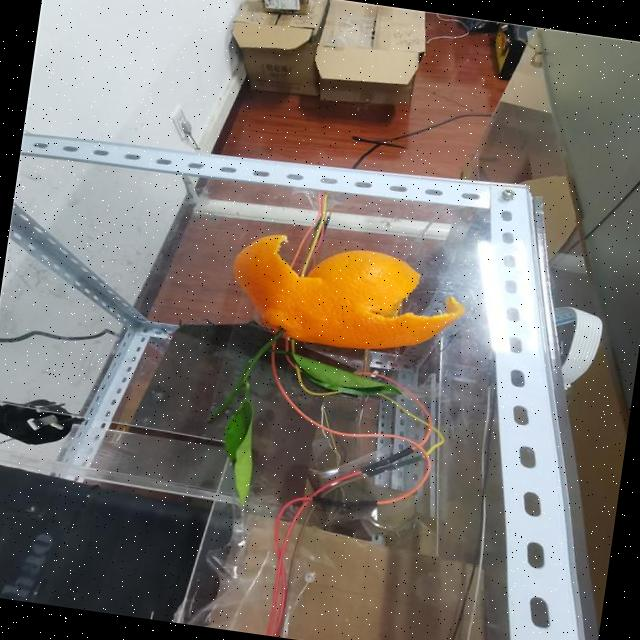orange-peel: (222, 226, 472, 366)
